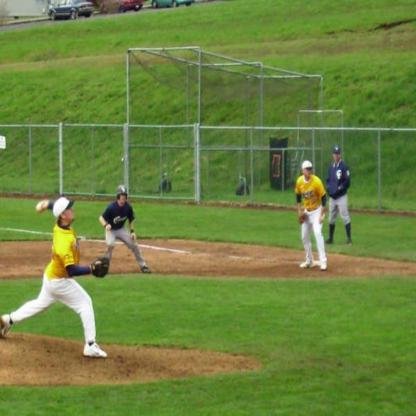face: (67, 207, 77, 223), (120, 194, 127, 204), (306, 169, 312, 179), (334, 153, 340, 162)
